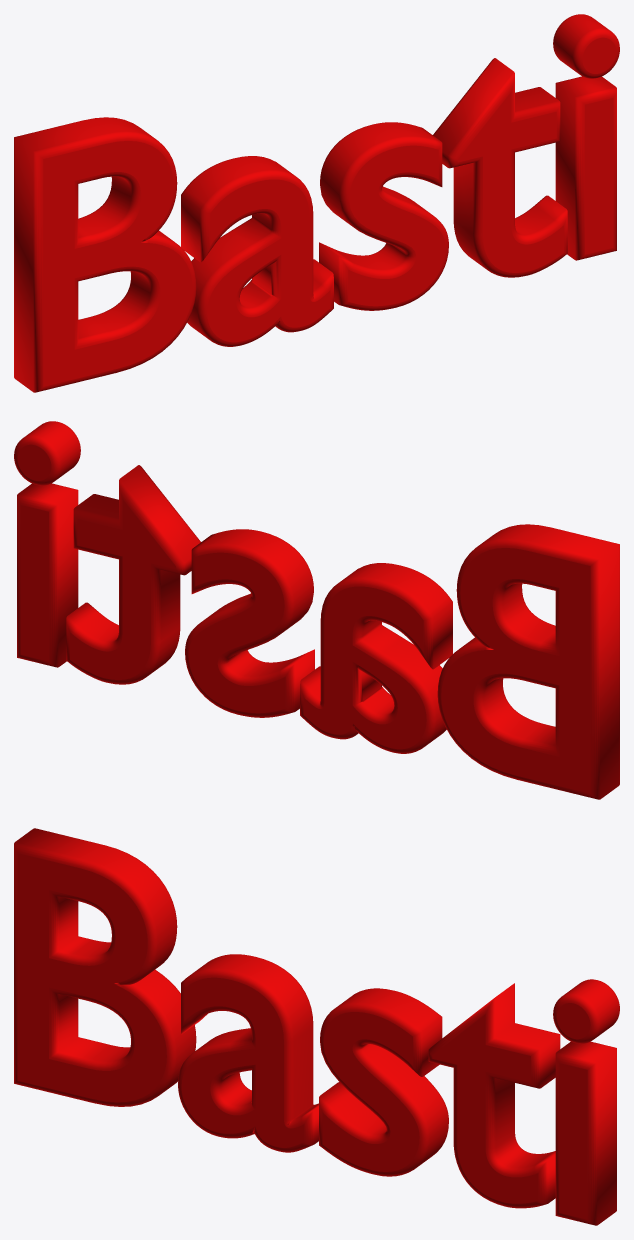
File: asset.glb
3 views of the same model, one above another, from view 1: azimuth 30°, elevation 25°; view 2: azimuth 150°, elevation 25°; view 3: azimuth 330°, elevation 25° (orthographic).
Parts seen in each view (by area): view 1: Basti; view 2: Basti; view 3: Basti.
Part boxes in pixels (x1=…): Basti: x1=14, y1=14, x2=619, y2=392; Basti: x1=14, y1=421, x2=619, y2=799; Basti: x1=14, y1=828, x2=619, y2=1225.
Bounding box in the file's own units: 1.84 × 0.731 × 0.14.
